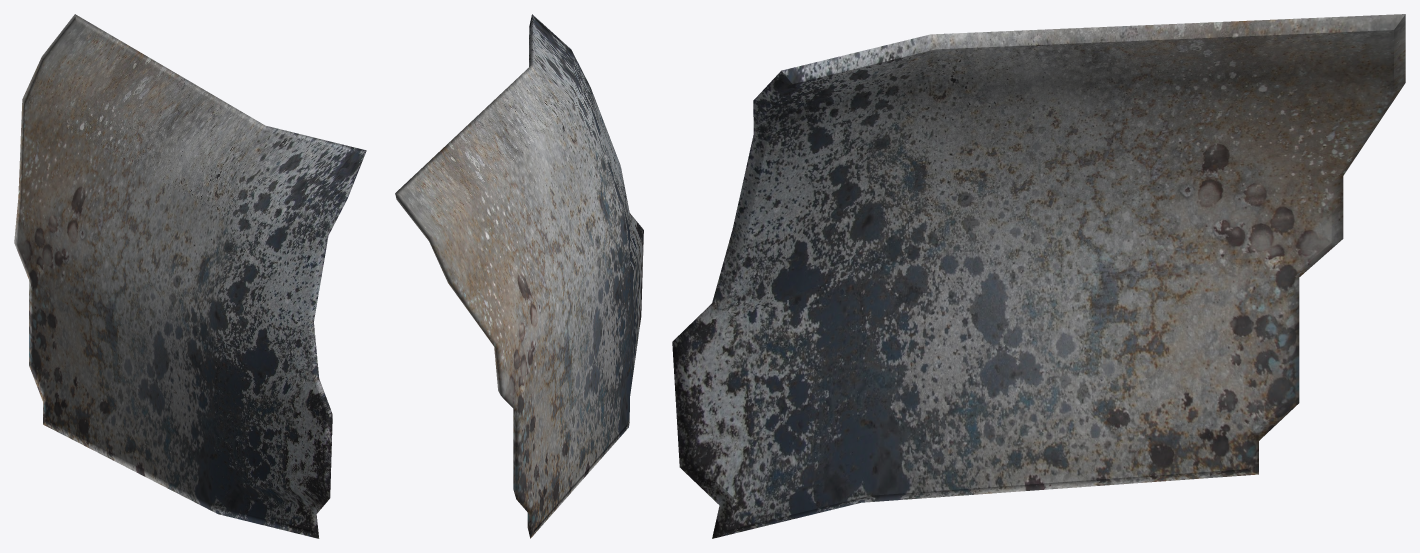
File: ShipWreckage4.fbx
3 renders of one model, left to right at view 1: azimuth 30°, elevation 25°; view 2: azimuth 150°, elevation 25°; view 3: azimuth 270°, elevation 25°, orthographic. The views are drawn at different scales.
Visible parts, largest first — view 1: pCube1; view 2: pCube1; view 3: pCube1.
Part boxes in pixels (x1,y1,x2,y2): pCube1: (14,14,366,538); pCube1: (395,14,643,538); pCube1: (672,14,1405,538).
Bounding box in the file's own units: 2.75 × 5.75 × 7.36.
1 material, 1 textured.
